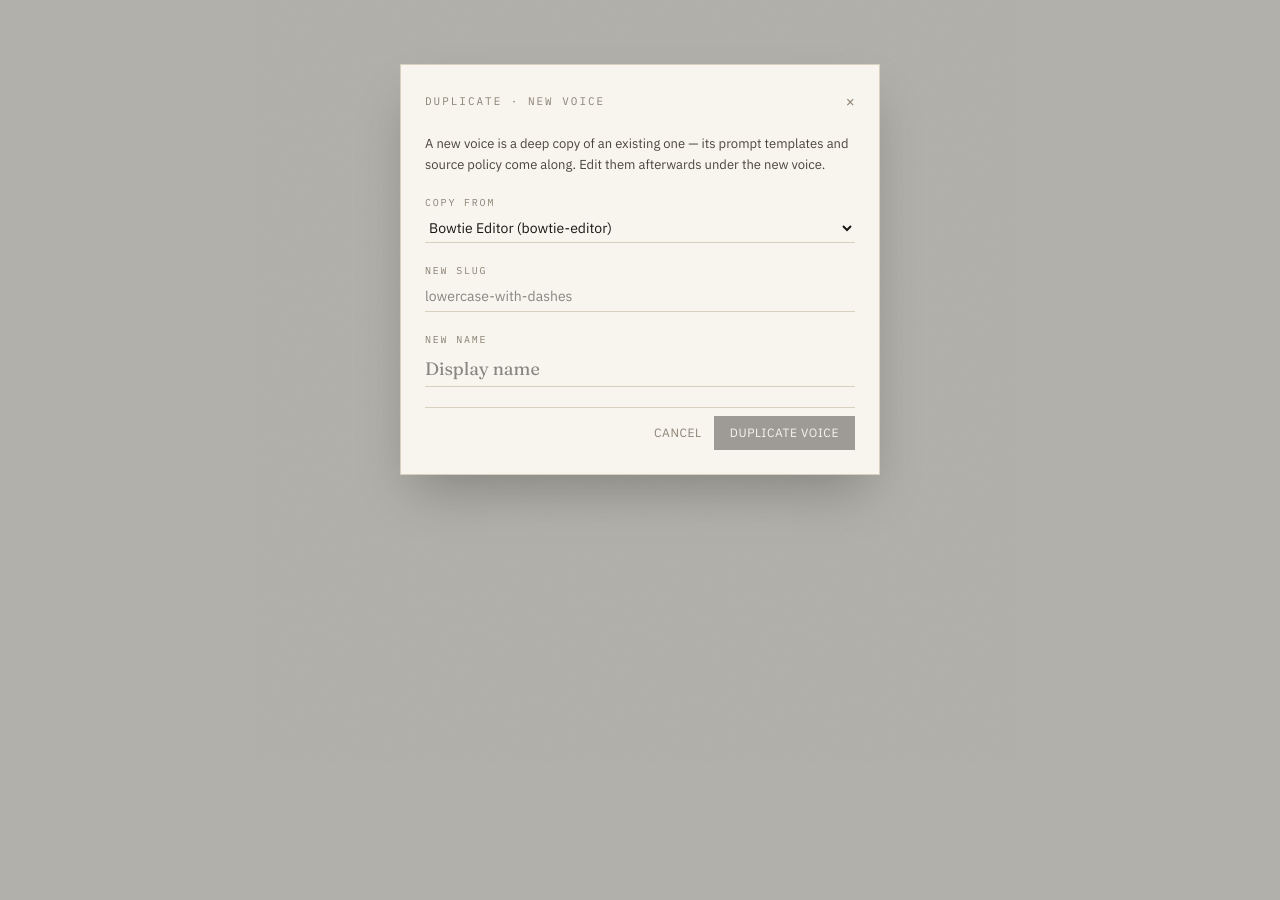
Test: DuplicateVoiceDialog › blocks submit and shows a validation error for a malformed slug
Step 1. Type "Bad Slug" into the field labelled "New slug" → (640, 297), box x1=425 y1=282 x2=855 y2=312
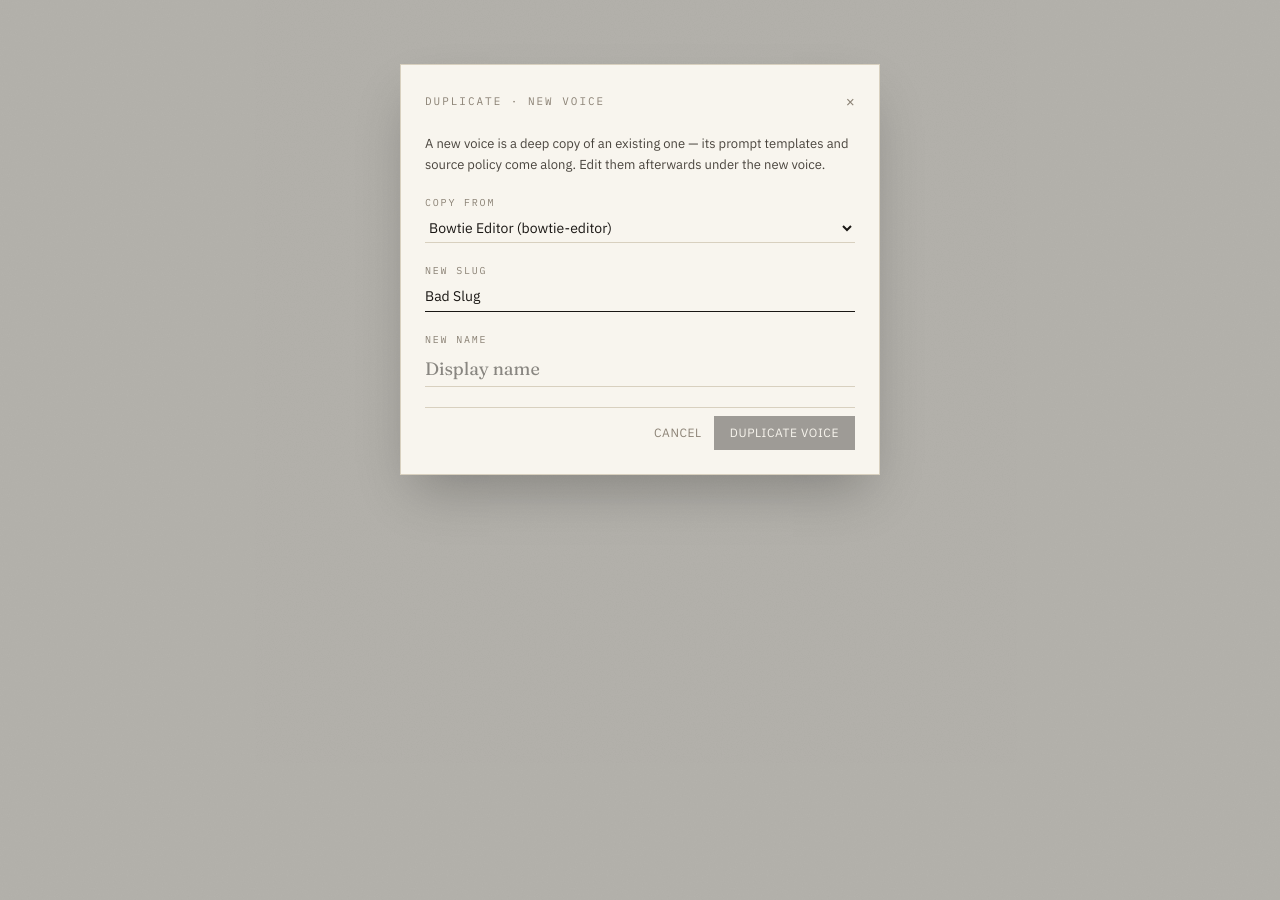
Step 2. Type "Bad Slug Voice" into the field labelled "New name" → (640, 369), box x1=425 y1=351 x2=855 y2=387
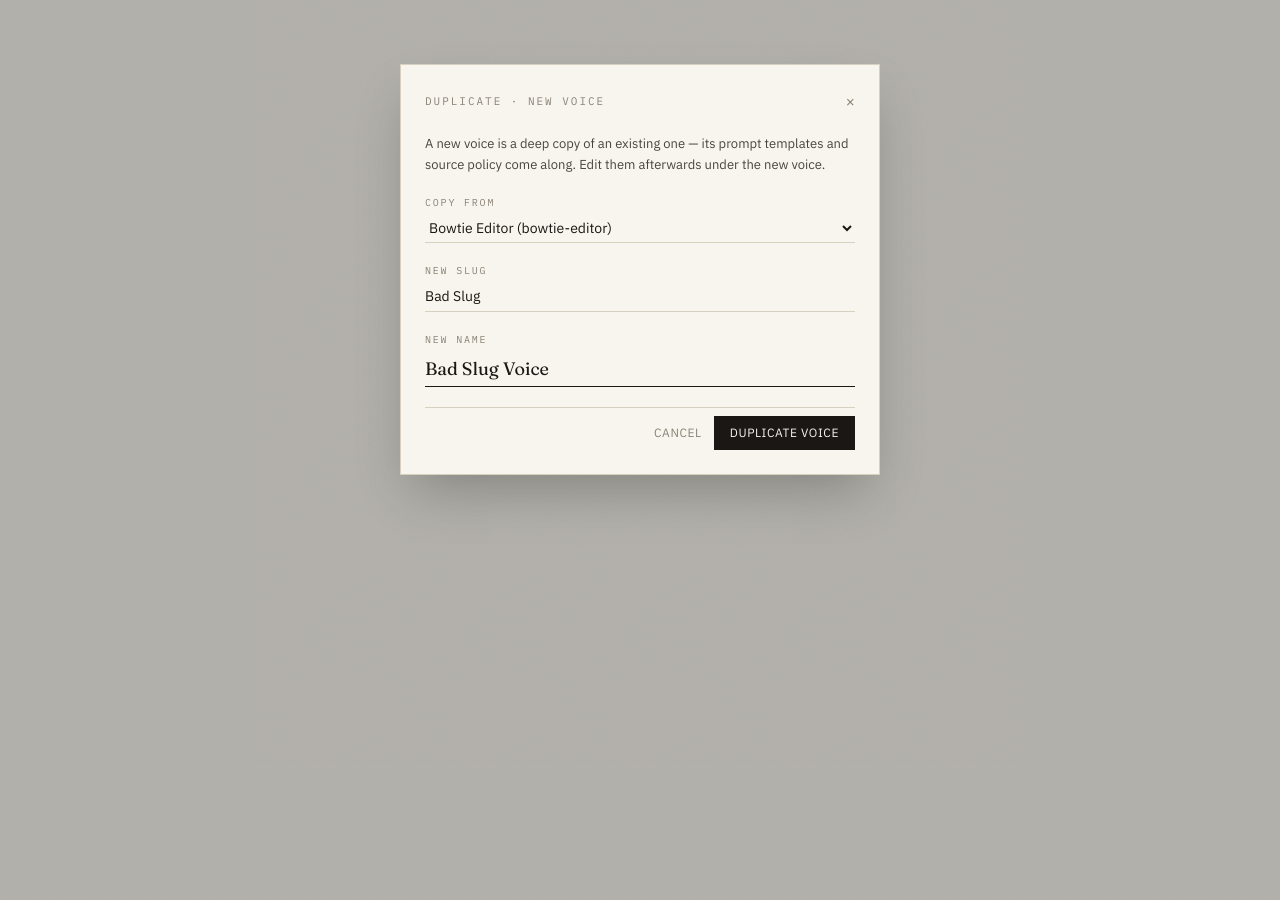
Step 3. Click the button "Duplicate voice" → (784, 433), box x1=714 y1=416 x2=855 y2=450
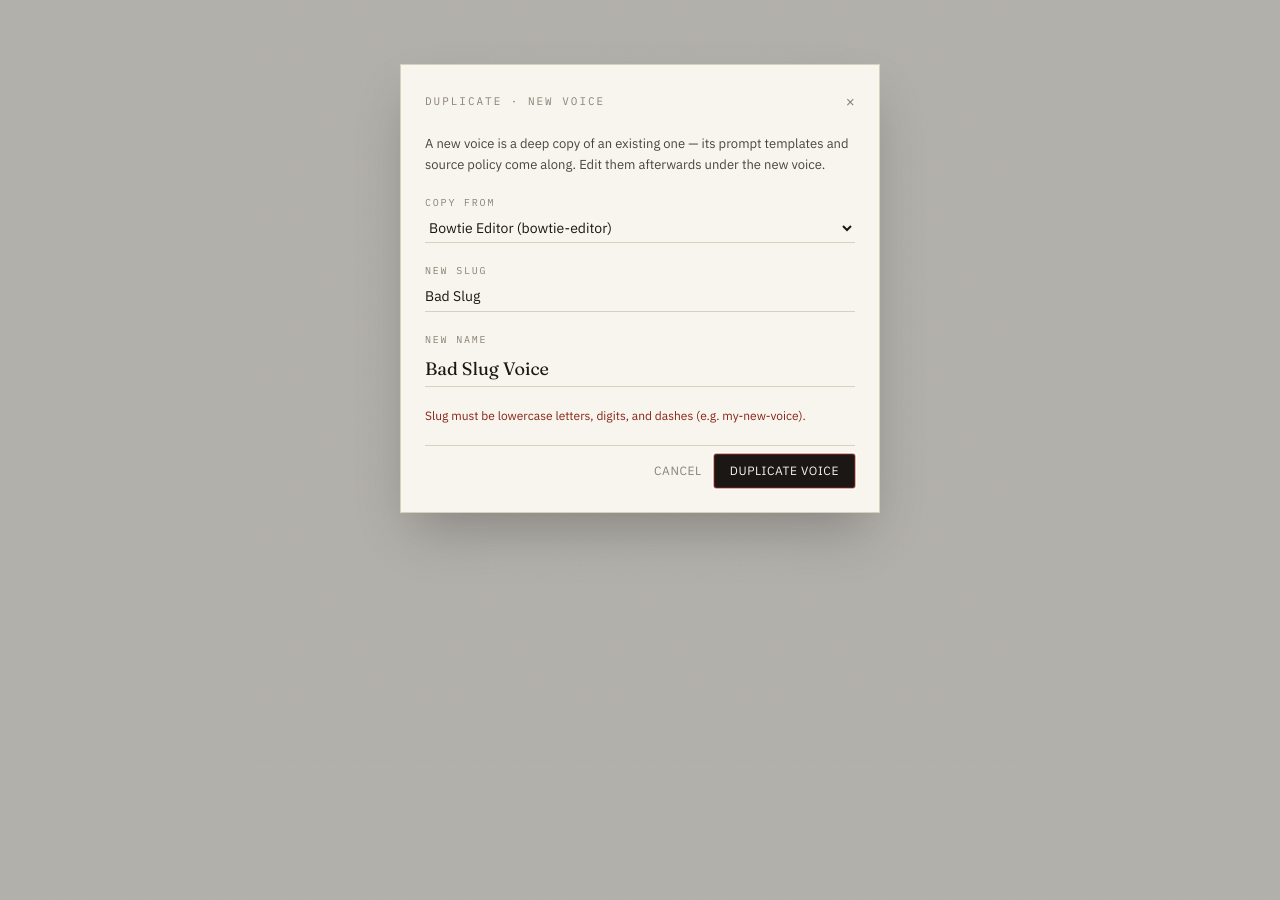
Now the message shows "lowercase letters", box x1=425 y1=408 x2=806 y2=423
